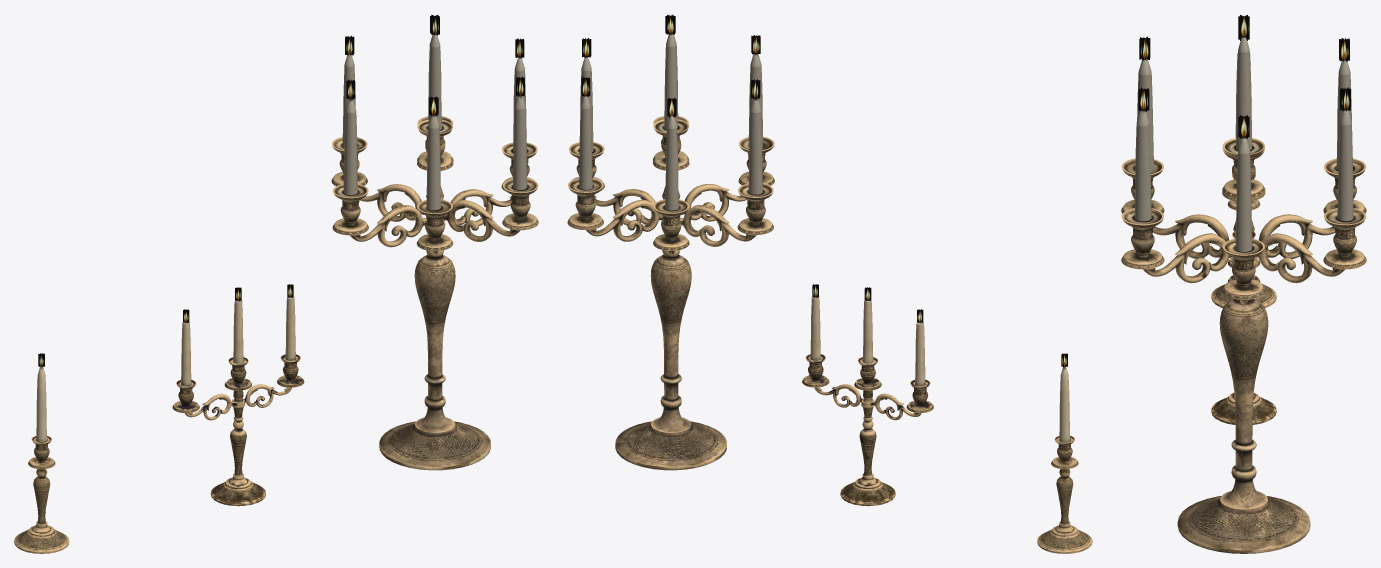
File: brass_candleholders.glb
3 renders of one model, left to right at view 1: azimuth 30°, elevation 25°; view 2: azimuth 150°, elevation 25°; view 3: azimuth 270°, elevation 25°, orthographic. The views are drawn at different scales.
Parts seen in each view (by area): view 1: brass_candleholder_03, brass_candleholder_02, brass_candleholder_01; view 2: brass_candleholder_03, brass_candleholder_02, brass_candleholder_01; view 3: brass_candleholder_03, brass_candleholder_02, brass_candleholder_01.
Part boxes in pixels (left/top/right/bottom): brass_candleholder_03: left=38, top=14, right=538, bottom=470; brass_candleholder_02: left=172, top=295, right=304, bottom=506; brass_candleholder_01: left=14, top=366, right=69, bottom=553; brass_candleholder_03: left=567, top=14, right=1067, bottom=470; brass_candleholder_02: left=802, top=296, right=933, bottom=505; brass_candleholder_01: left=1037, top=363, right=1092, bottom=553; brass_candleholder_03: left=1121, top=15, right=1366, bottom=553; brass_candleholder_02: left=1211, top=232, right=1276, bottom=424; brass_candleholder_01: left=1211, top=174, right=1276, bottom=307.
Size of the model in its own units: 1.05 by 0.8353 by 0.3647.
5 materials, 5 textured.
